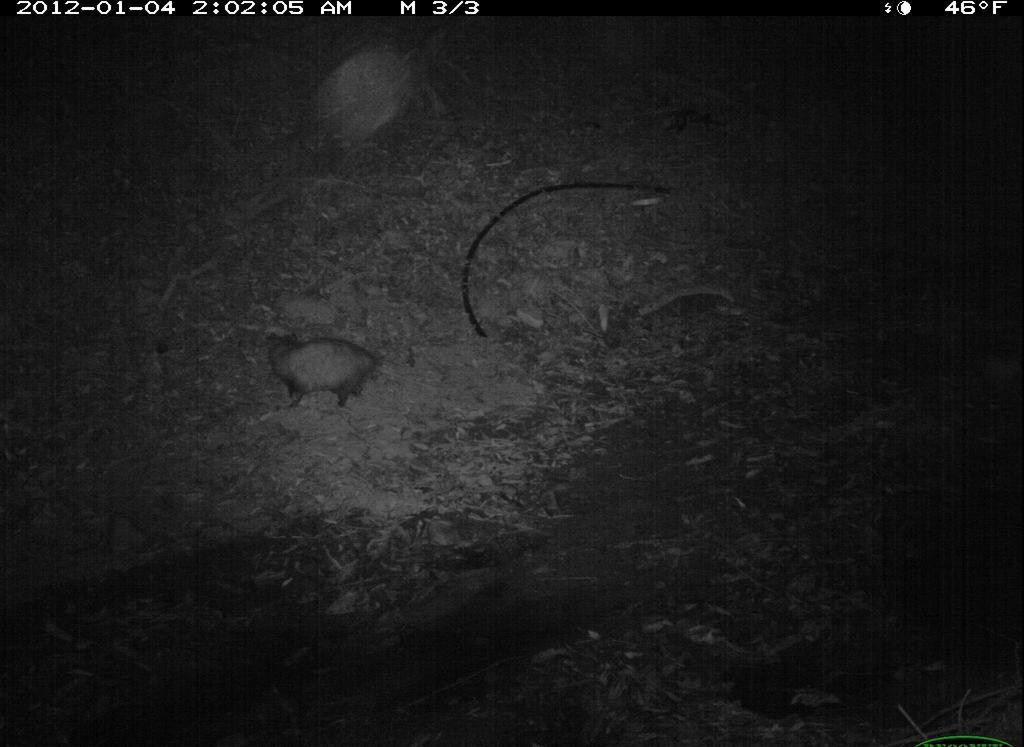opossum: (265, 333, 415, 410)
